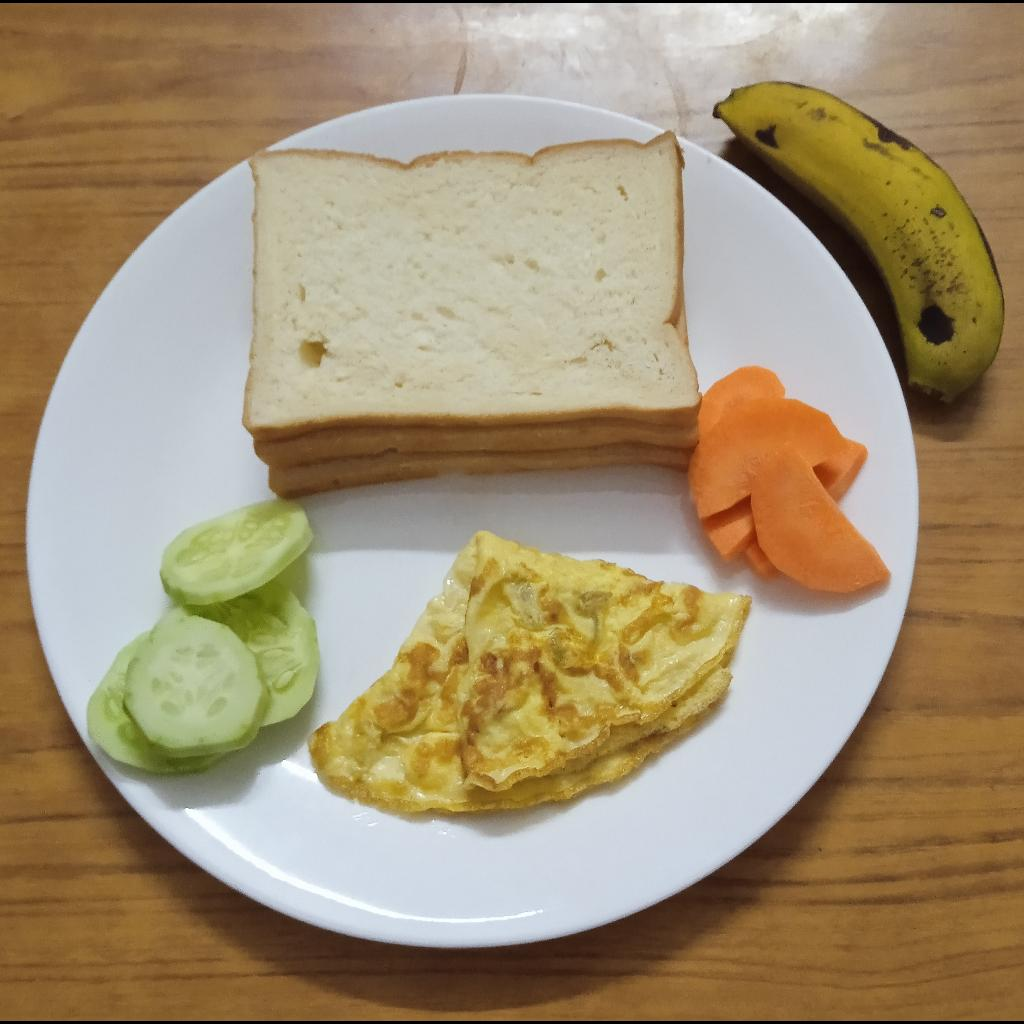banana: (714, 81, 1005, 407)
bread: (242, 129, 703, 500)
carrot: (687, 365, 891, 594)
cucumber: (86, 500, 322, 774)
egg-poached: (305, 530, 754, 811)
